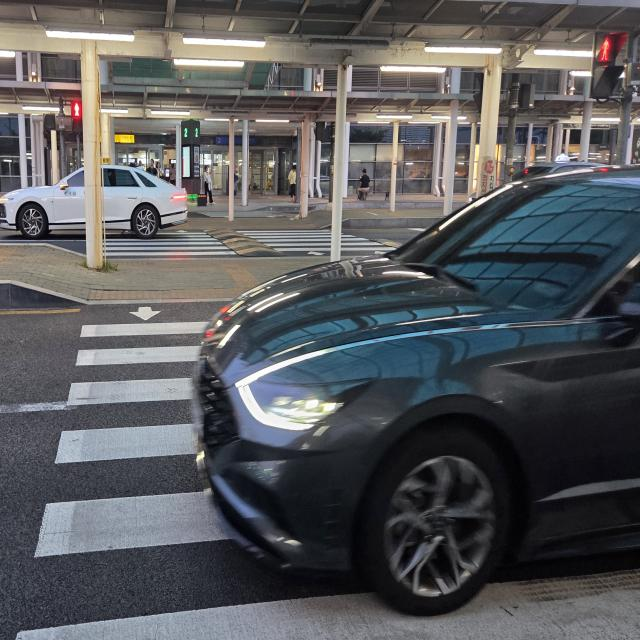car: (169, 142, 640, 621), (0, 138, 205, 256)
